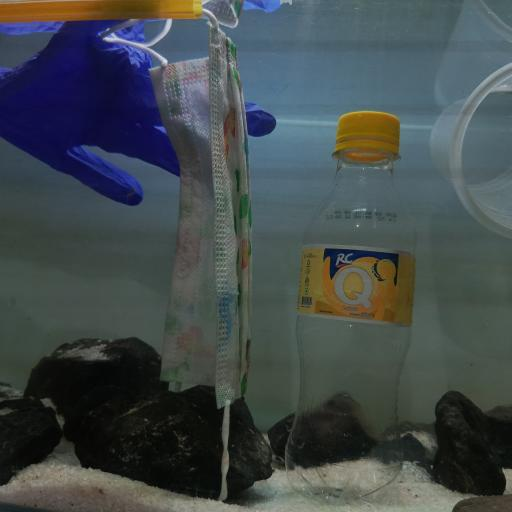bottle_cap: (334, 110, 407, 152)
glove: (1, 22, 277, 204)
mask: (148, 20, 254, 496)
plastic_bottle: (282, 109, 417, 501)
plastic_cup: (430, 64, 512, 240)
plastic_straw: (2, 1, 203, 22)
